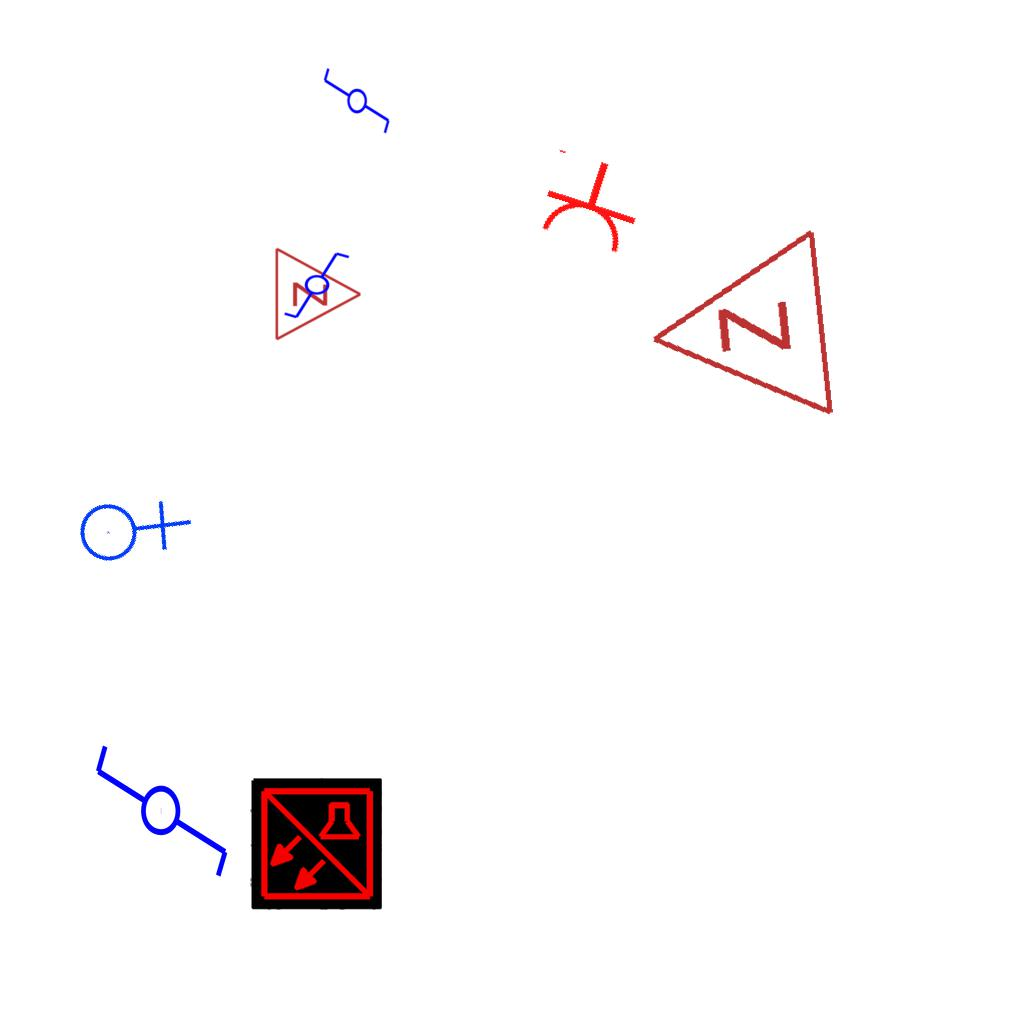Elektroanschluss_allgemein_230V_Geraeteanschlussdose_230V: (60, 458, 197, 594)
OKW_Multisensormelder_(Kombination_optischer_Rauch-Kahlenmonoxid_Waerme-Melder): (250, 778, 382, 910)
Schukosteckdose_einfach: (529, 145, 652, 259)
Wechselschalter: (91, 724, 235, 881), (320, 66, 392, 144), (282, 250, 360, 322)
Zimmersignalleuchte: (629, 225, 849, 441), (268, 244, 368, 342)
